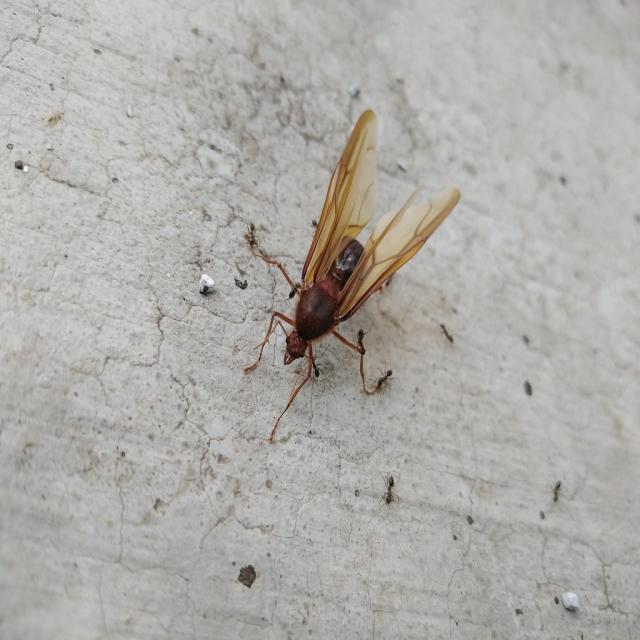Alive-Male-Alate: (244, 109, 461, 445)
